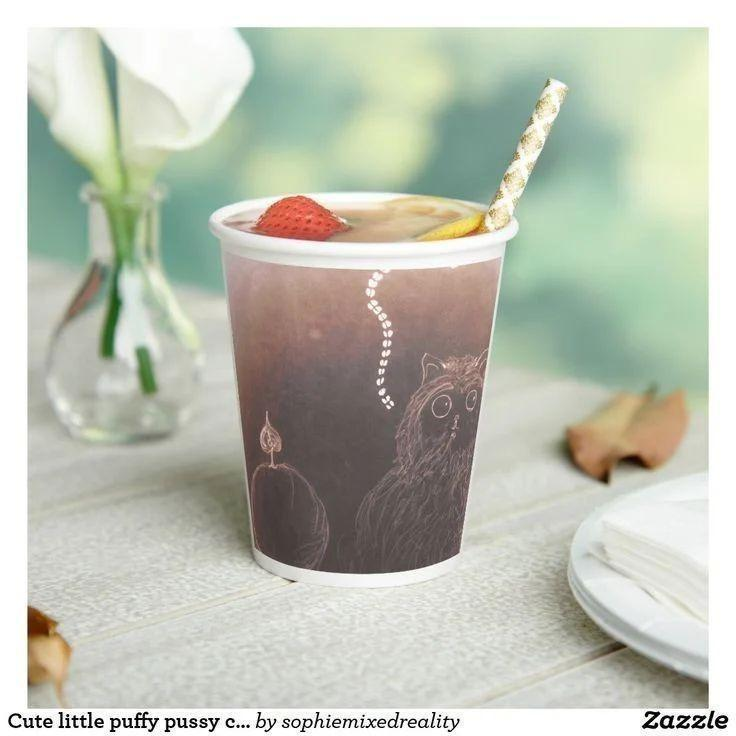cup-disposable: (209, 179, 519, 594)
